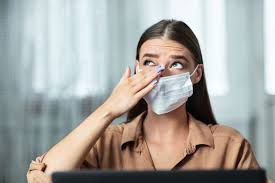with-mask: (129, 24, 207, 119)
